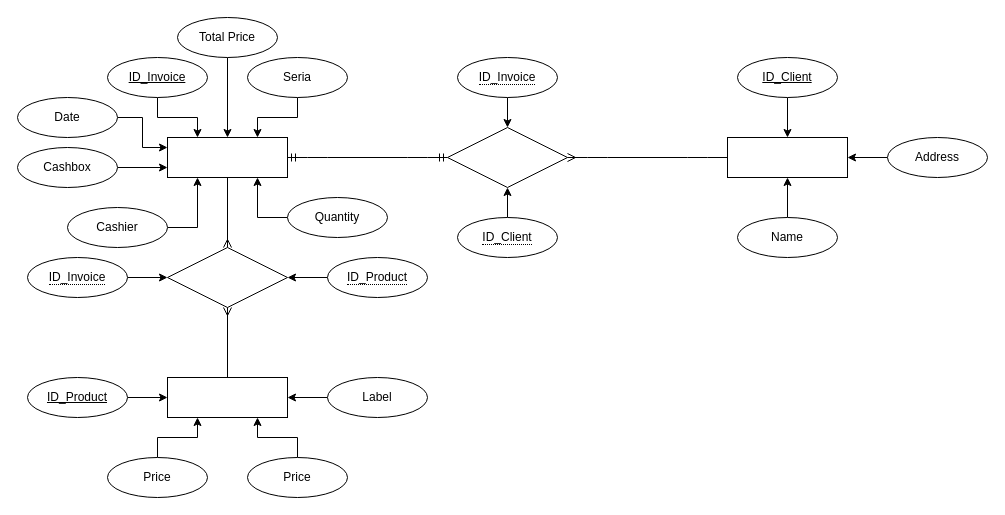
This 1005x515 diagram has some shape labels left out. The shapes that lost their labels are listed below. From the top down, each one's box as (x1, y1, x2, y2) in pixels, then its label:
(166, 136, 288, 178): Invoice
(446, 126, 568, 188): Includes
(726, 136, 848, 178): Client
(166, 246, 288, 308): Relationship
(166, 376, 288, 418): Product
